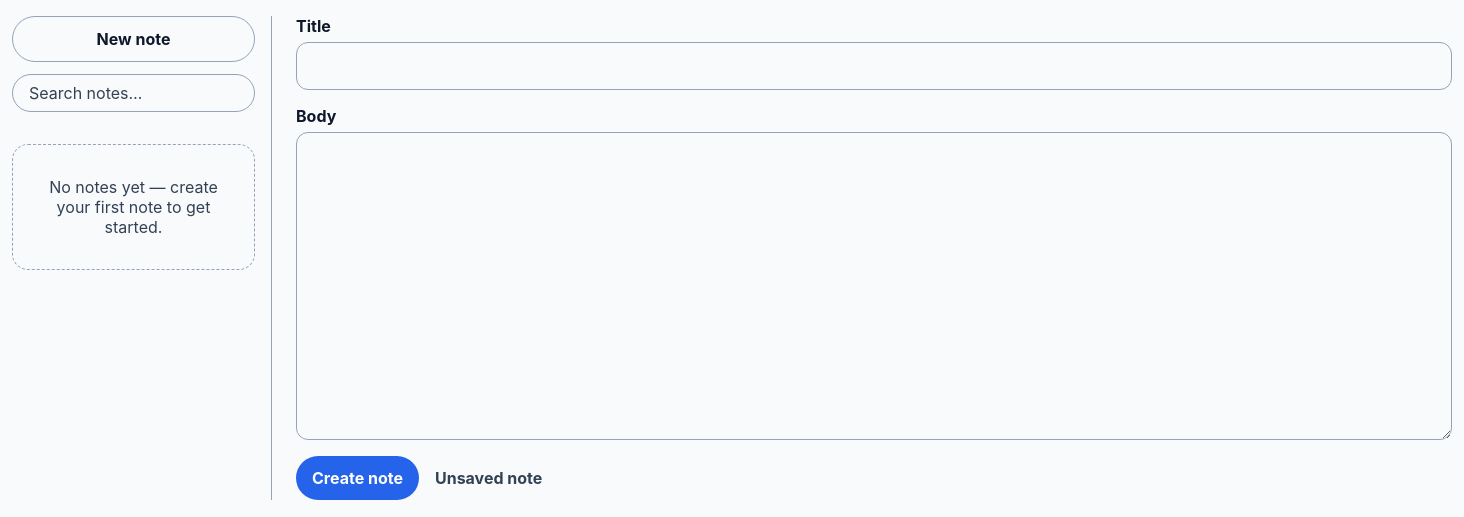
it: NoteEditor › note CRUD › shows validation or API failures
This screenshot has width=1464, height=517.
In the field labelled "Title": (874, 66) [296,42,1452,90], type "Broken note"
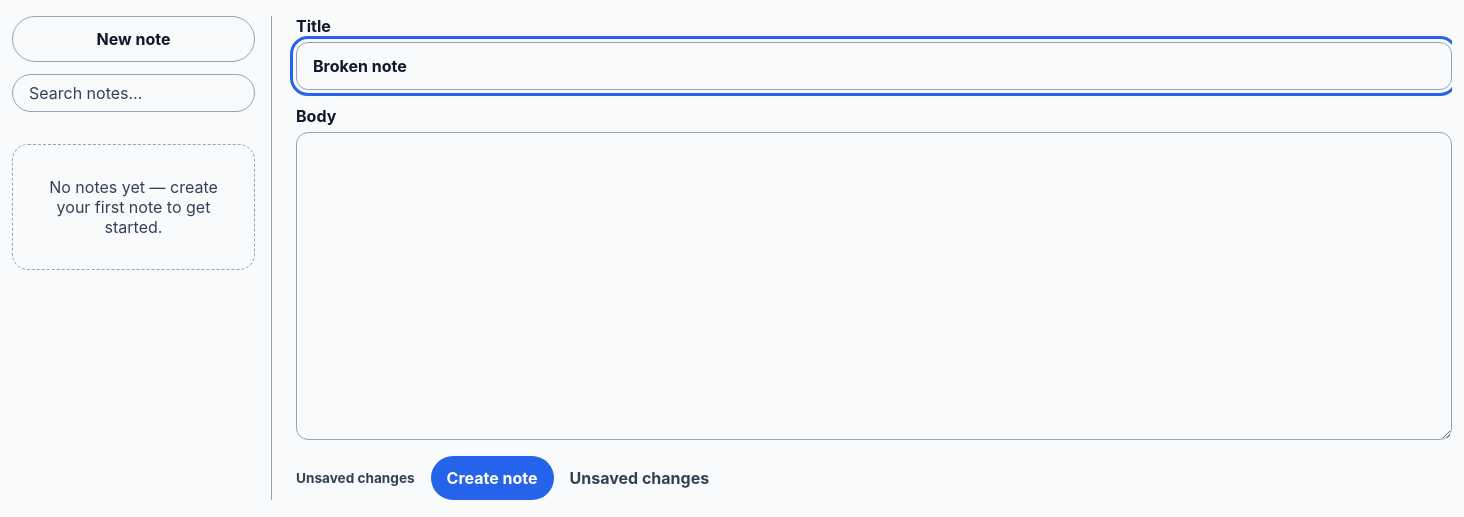
Click the button "Create note": click(492, 478) [431,456,554,500]
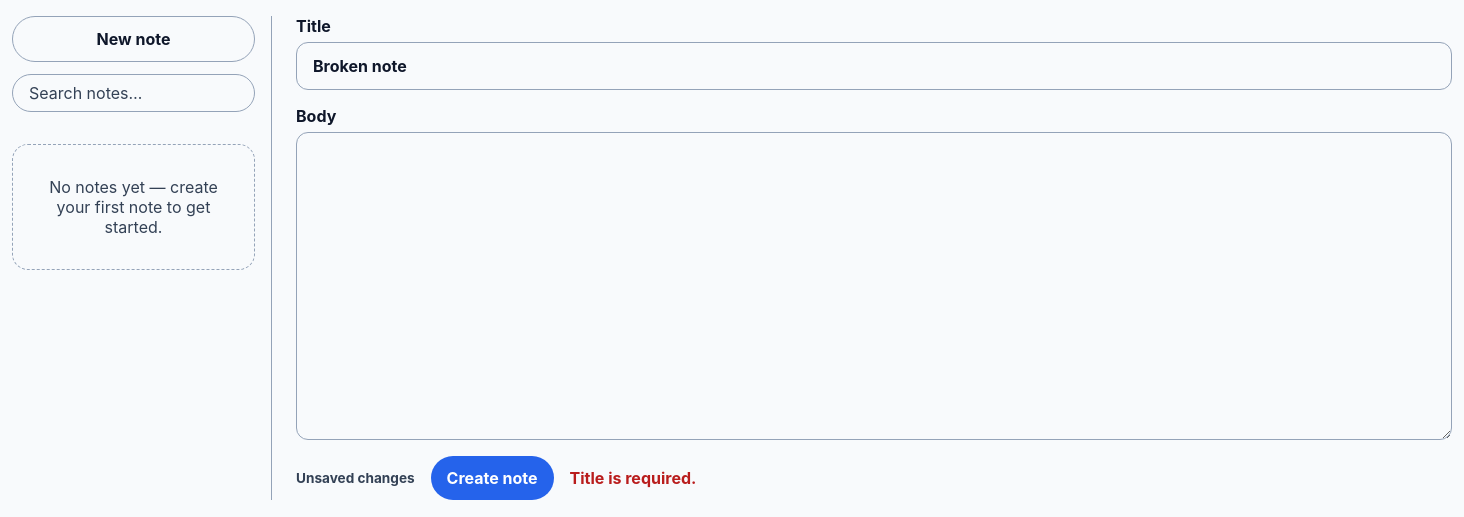
expect the message reads "Title is required.": met, box [570,468,696,488]
